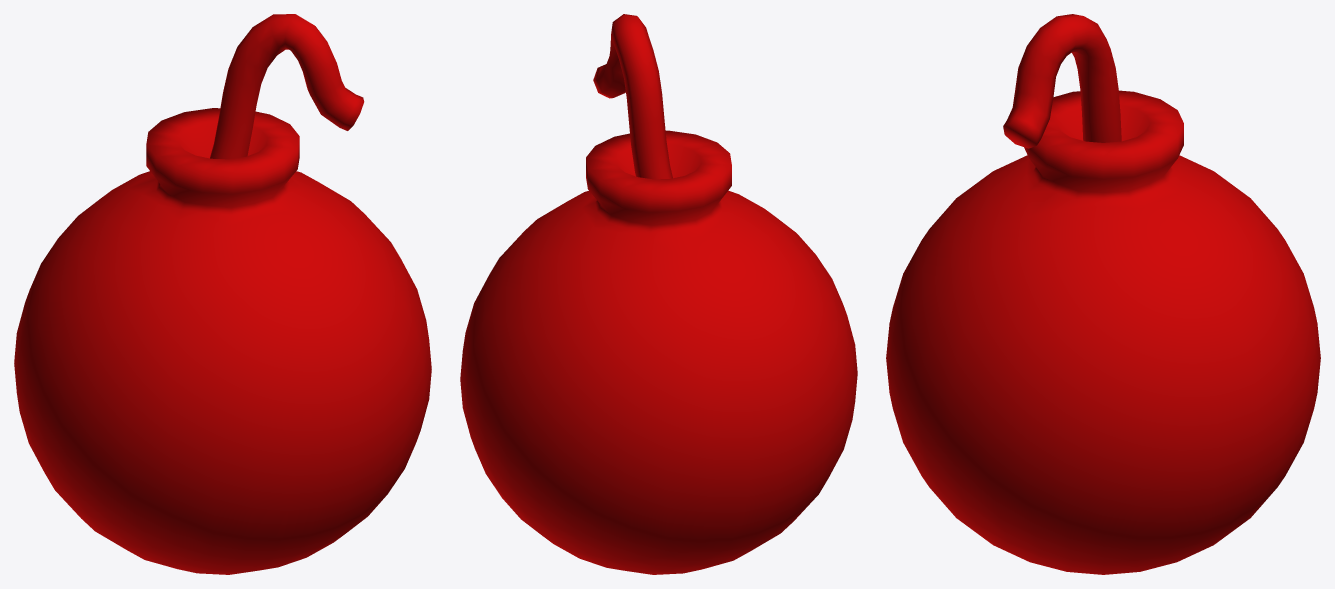
The model's file is red_bomb.glb.
The picture shows the model from 3 angles, left to right: view 1: azimuth 30°, elevation 25°; view 2: azimuth 150°, elevation 25°; view 3: azimuth 270°, elevation 25°; orthographic projection. The views are drawn at different scales.
Visible parts, largest first — view 1: bomb; view 2: bomb; view 3: bomb.
Boxes of the visible parts, x1,y1,x2,y2 form: bomb: (14, 14, 431, 574); bomb: (460, 14, 857, 574); bomb: (886, 14, 1320, 574).
Size of the model in its own units: 5.5 by 7.87 by 5.5.
1 material, 1 textured.
